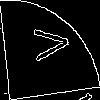V: (24, 25, 71, 63)
